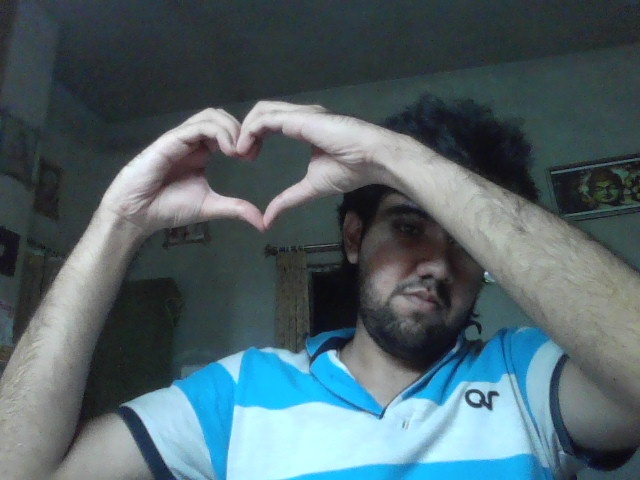Love: (123, 100, 363, 233)
